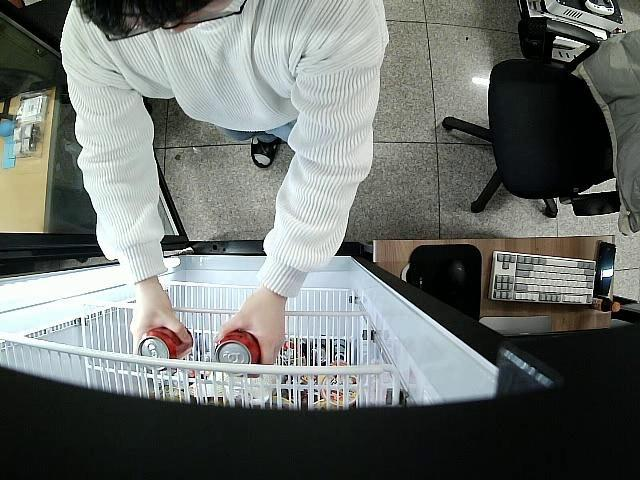11_cocaColaZero: (137, 326, 196, 362), (215, 330, 262, 368)
